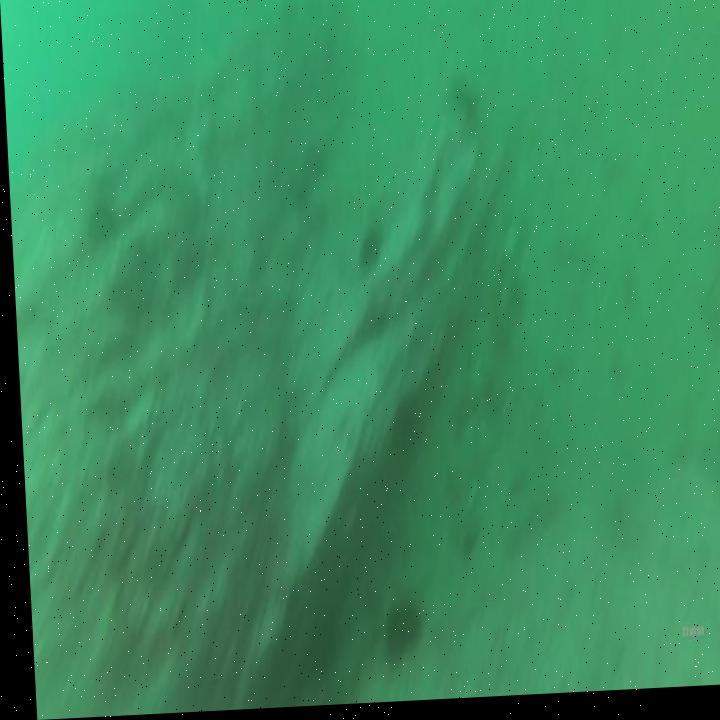echinus: (368, 598, 418, 678), (80, 198, 117, 255), (351, 228, 383, 280)
